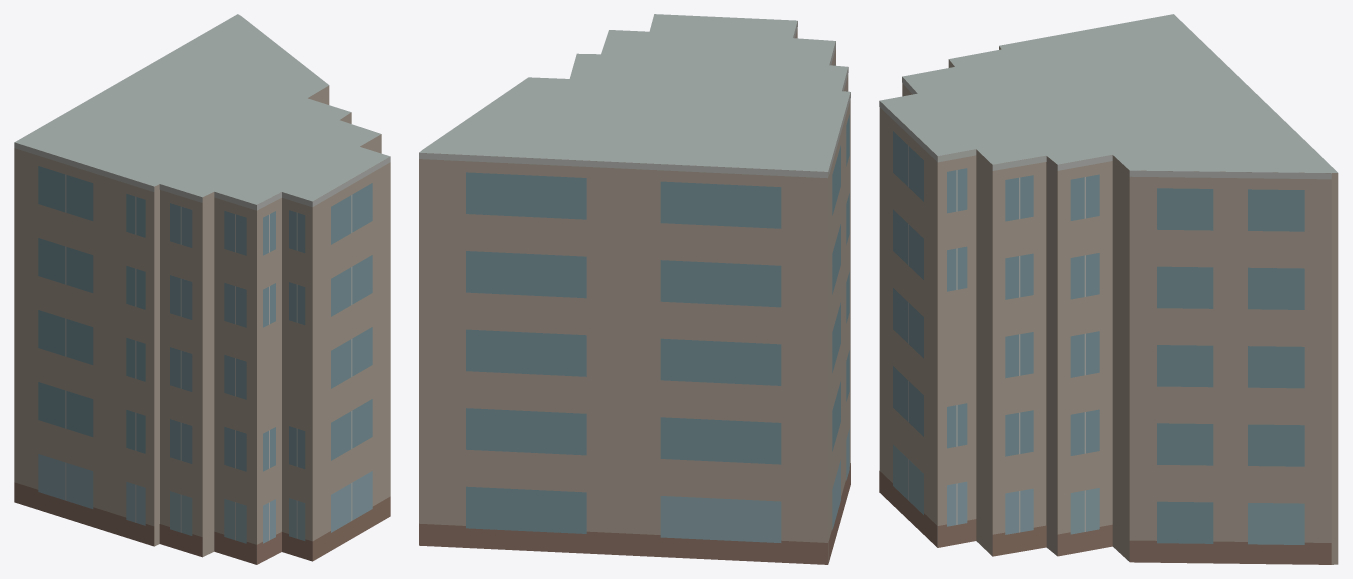
File: survey-upis-33025482.glb
3 views of the same model, side by side, from view 1: azimuth 30°, elevation 25°; view 2: azimuth 150°, elevation 25°; view 3: azimuth 270°, elevation 25° (orthographic). The views are drawn at different scales.
Parts seen in each view (by area): view 1: survey-upis-33025482.tmp; view 2: survey-upis-33025482.tmp; view 3: survey-upis-33025482.tmp.
Boxes of the visible parts, box(x1,y1,x2,y2) form: survey-upis-33025482.tmp: box(14, 14, 390, 564); survey-upis-33025482.tmp: box(419, 14, 850, 564); survey-upis-33025482.tmp: box(879, 14, 1338, 564).
Bounding box in the file's own units: 13.42 × 15.39 × 16.35.
